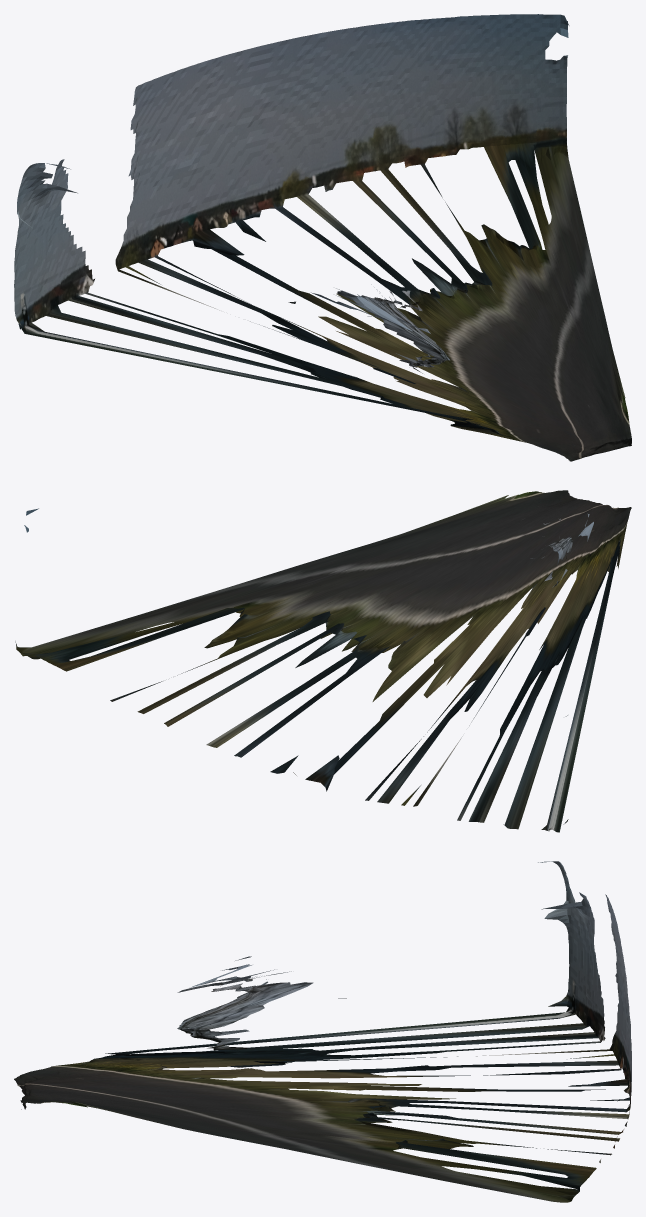
The picture shows the model from 3 angles, top to bottom: view 1: azimuth 30°, elevation 25°; view 2: azimuth 150°, elevation 25°; view 3: azimuth 270°, elevation 25°; orthographic projection. The views are drawn at different scales.
Parts seen in each view (by area): view 1: defaultobject; view 2: defaultobject; view 3: defaultobject.
Part boxes in pixels (<box>): defaultobject: <box>14,14,631,461</box>; defaultobject: <box>15,490,631,832</box>; defaultobject: <box>14,861,631,1202</box>.
Bounding box in the file's own units: 41.12 × 14.27 × 44.66.
Materials: 1 (1 with a texture image).
